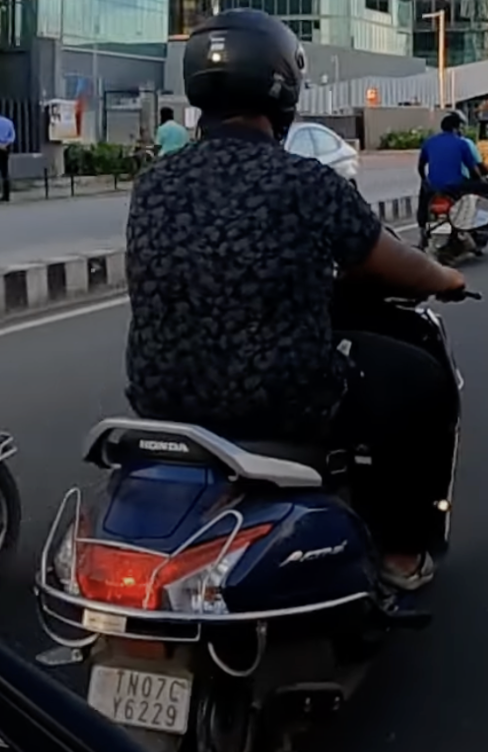motor: (41, 204, 480, 731)
number: (85, 661, 189, 733)
with helmet: (180, 7, 306, 130)
